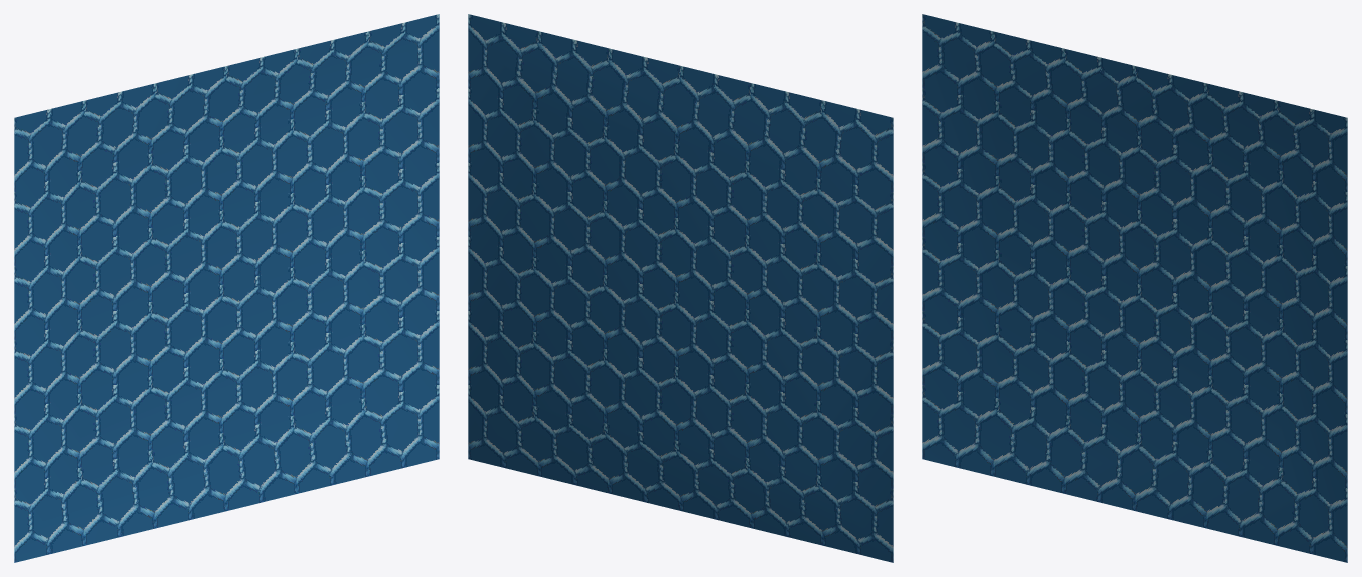
File: fence_normal.dae
The picture shows the model from 3 angles, left to right: view 1: azimuth 30°, elevation 25°; view 2: azimuth 150°, elevation 25°; view 3: azimuth 330°, elevation 25°; orthographic projection.
Visible parts, largest first — view 1: n0b0; view 2: n0b0; view 3: n0b0.
Part boxes in pixels (left/top/right/bottom): n0b0: left=14, top=14, right=439, bottom=562; n0b0: left=468, top=14, right=893, bottom=562; n0b0: left=922, top=14, right=1347, bottom=562.
Bounding box in the file's own units: 600 × 600 × 12.36.
1 material, 1 textured.
